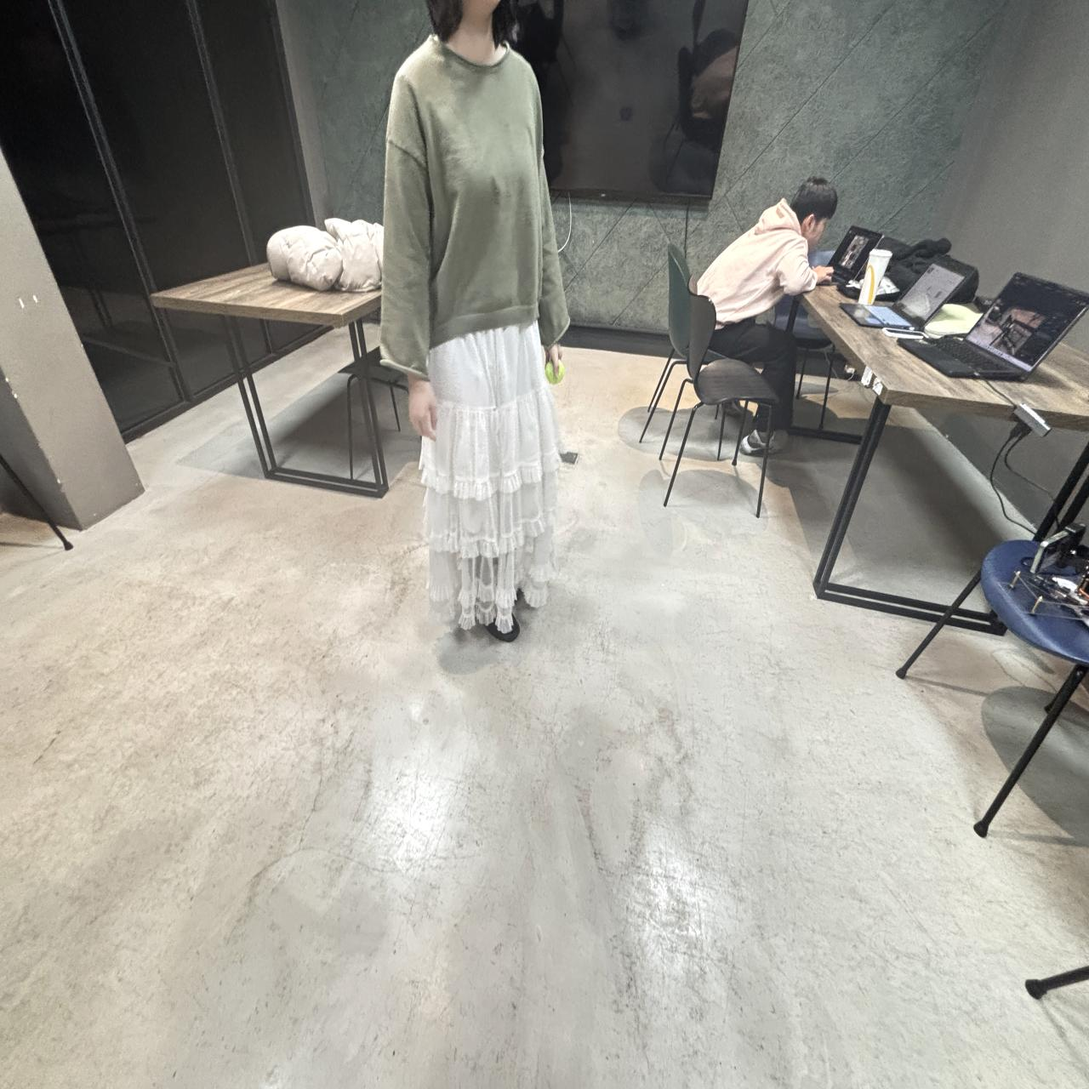person: (381, 0, 568, 641), (690, 175, 838, 451)
tennisball: (545, 361, 564, 385)
